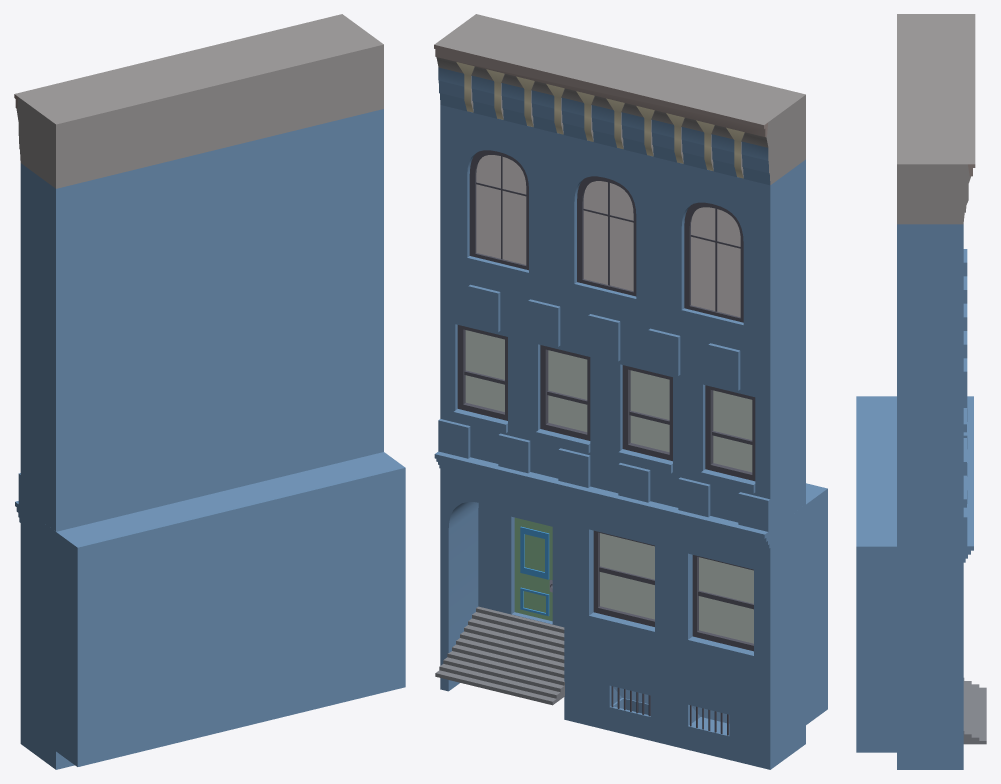
3 views of the same model, side by side, from view 1: azimuth 30°, elevation 25°; view 2: azimuth 150°, elevation 25°; view 3: azimuth 270°, elevation 25° (orthographic). The views are drawn at different scales.
Parts seen in each view (by area): view 1: Etage005; view 2: Etage005; view 3: Etage005.
Part boxes in pixels (x1,y1,x2,y2): Etage005: [14, 14, 405, 769]; Etage005: [434, 14, 827, 769]; Etage005: [856, 14, 986, 769].
Bounding box in the file's own units: 315 × 592 × 115.
